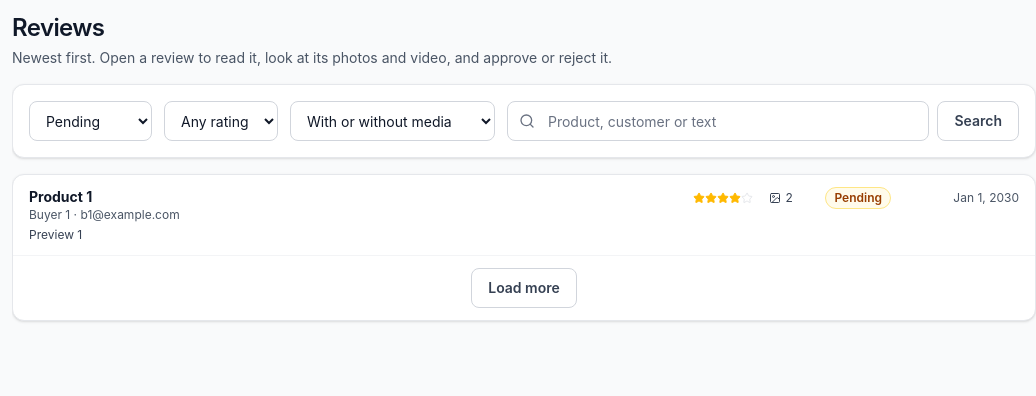
Test: AdminReviewsPage › loads more with the cursor
Click the button "Load more" at (524, 288), box [471,268,577,308]
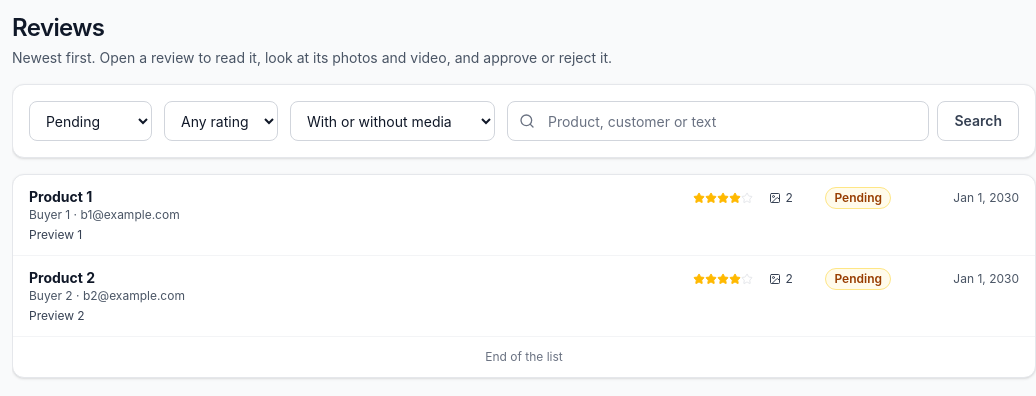
Now the text "Product 2" is shown, box [29,269,95,286]
Now the text "End of the list" is shown, box [485,349,563,364]
